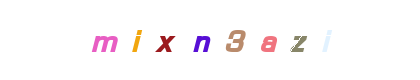3: (162, 0, 242, 80)
A: (170, 0, 250, 80)
I: (97, 0, 177, 80), (224, 0, 304, 80)
M: (70, 0, 150, 80)
N: (161, 0, 241, 80)
X: (125, 0, 205, 80)
Z: (216, 0, 296, 80)
